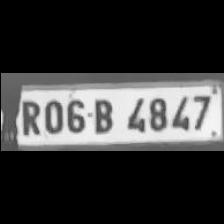0: (40, 96, 64, 134)
4: (118, 94, 148, 134), (167, 93, 191, 131)
6: (61, 96, 86, 134)
7: (190, 92, 212, 130)
8: (144, 94, 168, 132)
B: (86, 96, 116, 134)
R: (16, 98, 40, 136)
